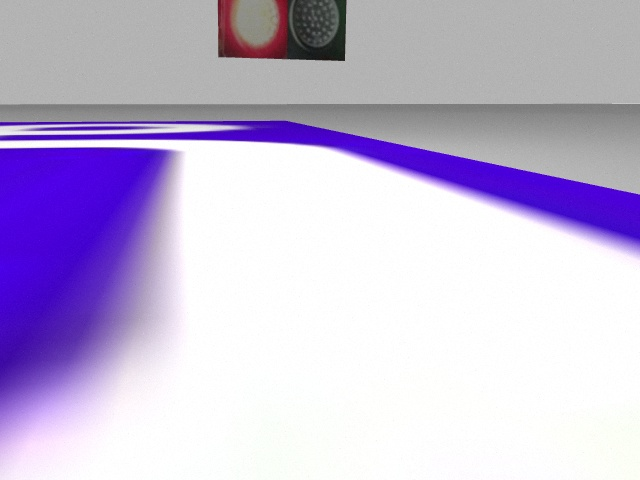red: (217, 1, 287, 60)
